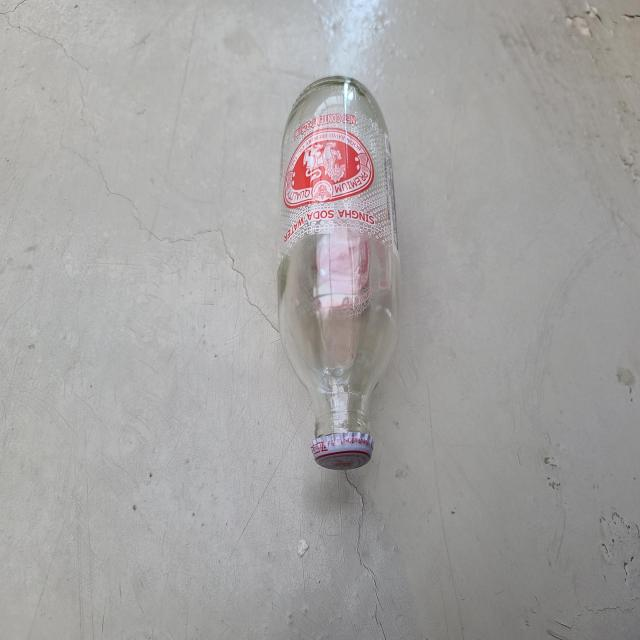glass: (278, 75, 401, 470)
